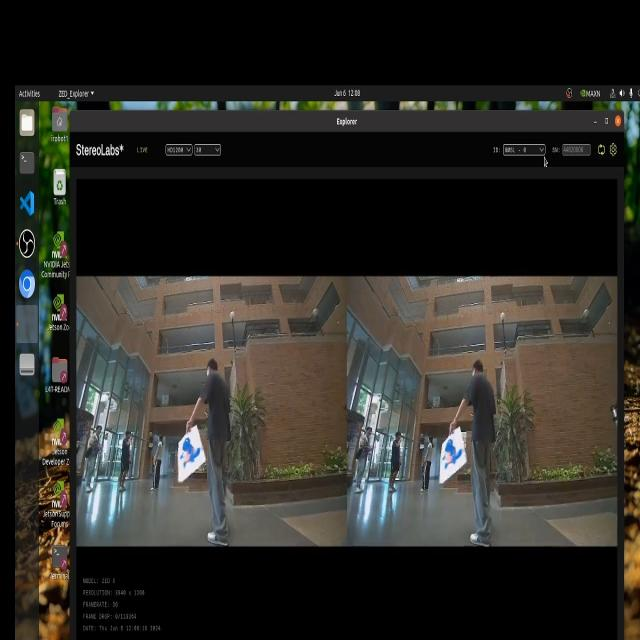blue: (176, 433, 204, 471), (442, 435, 467, 475)
